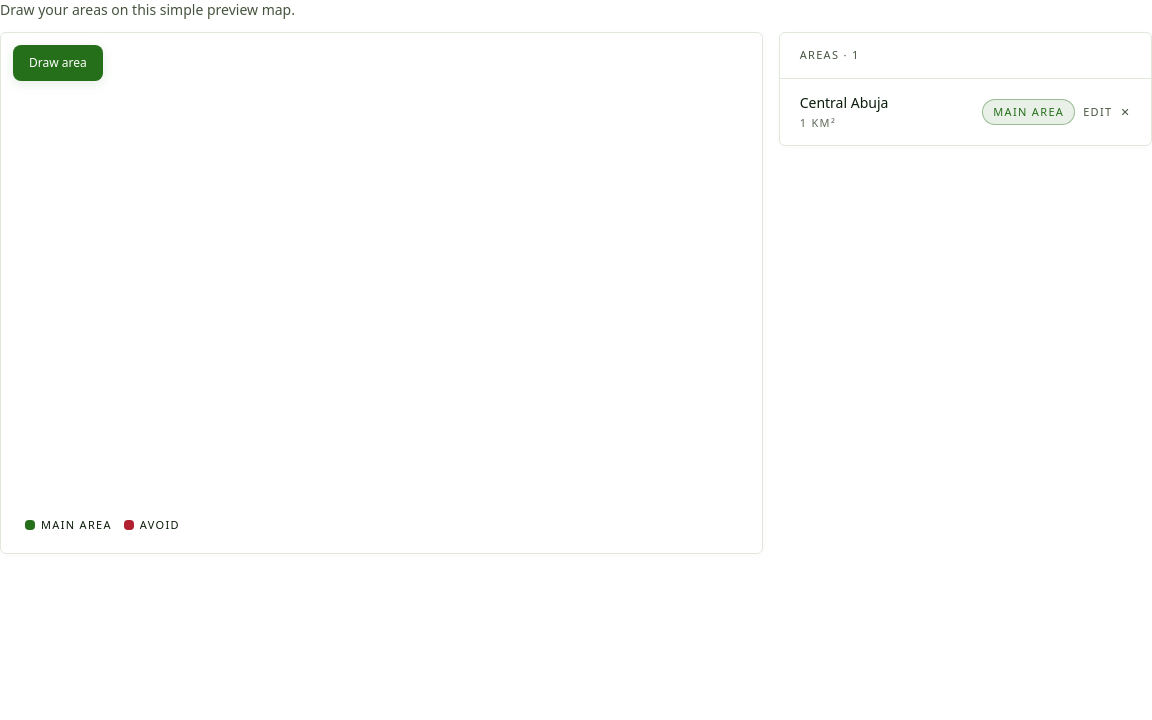
Test case: ZonesEditor MapLibre compatibility › removes a confirmed deleted area from the local list
Click the button named "Delete Central Abuja" at (1126, 112), box [1120,104,1131,120]
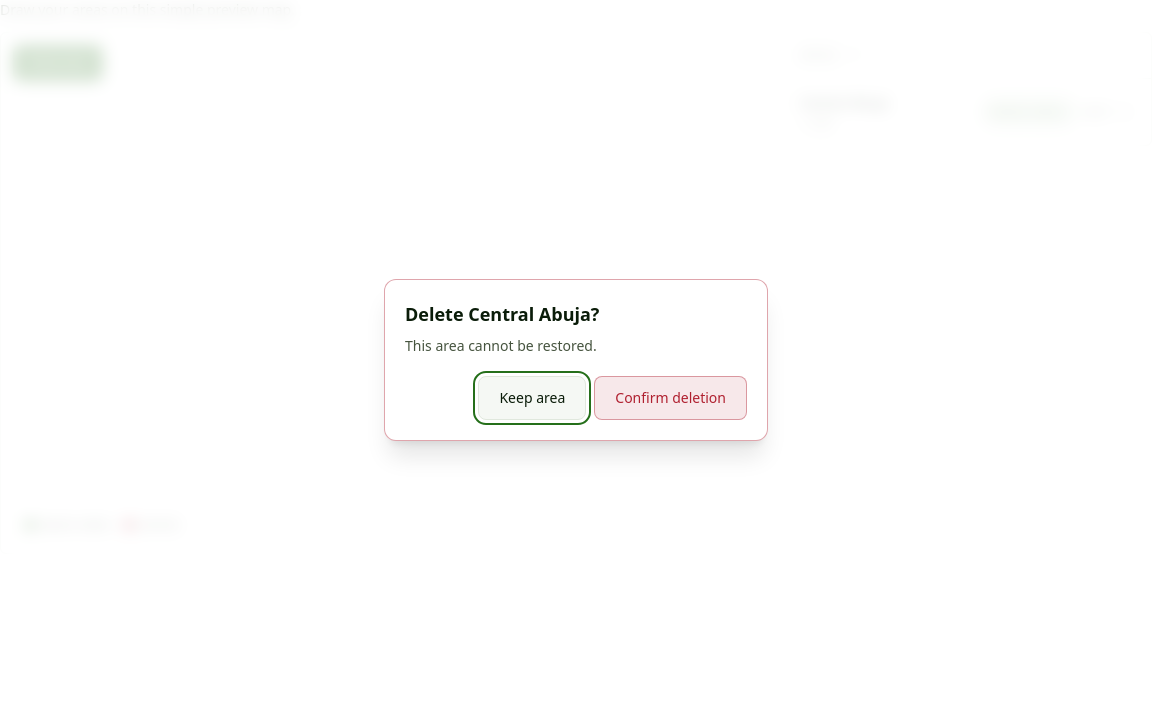
Click the button "Confirm deletion" at (671, 398), box [594,376,747,420]
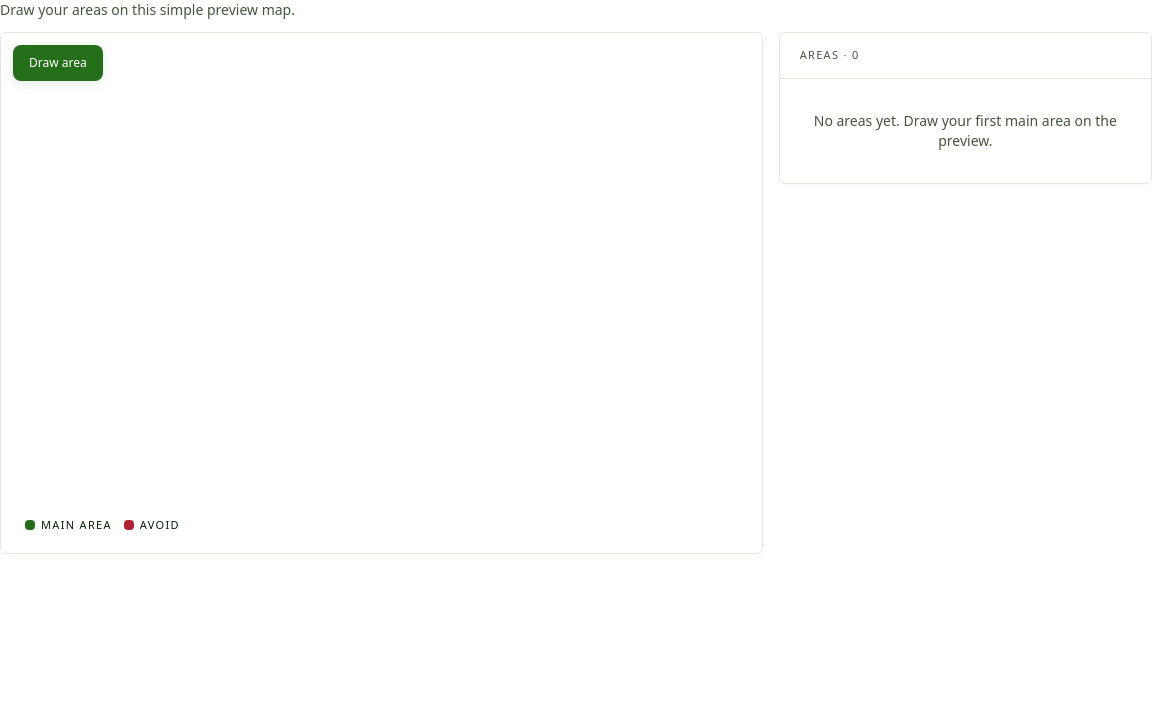
Result: the text "No areas yet. Draw your first main area on the preview." is shown at [814,110,1117,150]
Result: the heading "Delete Central Abuja" is gone
